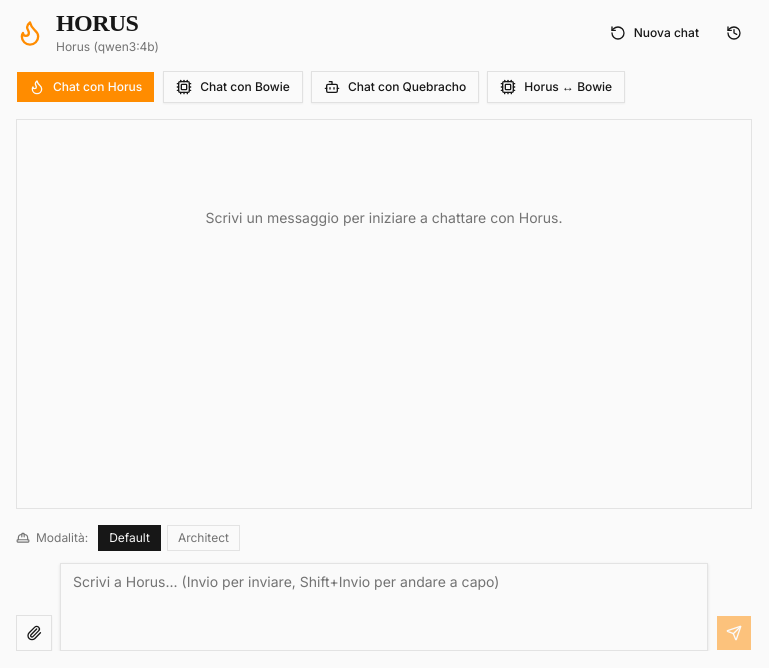
HorusChat - un solo agente su più giù › nomina l'agente guasto invece di un avviso generico su tutti
Click the button "Horus ↔ Bowie" at (556, 87), box [487,71,625,103]
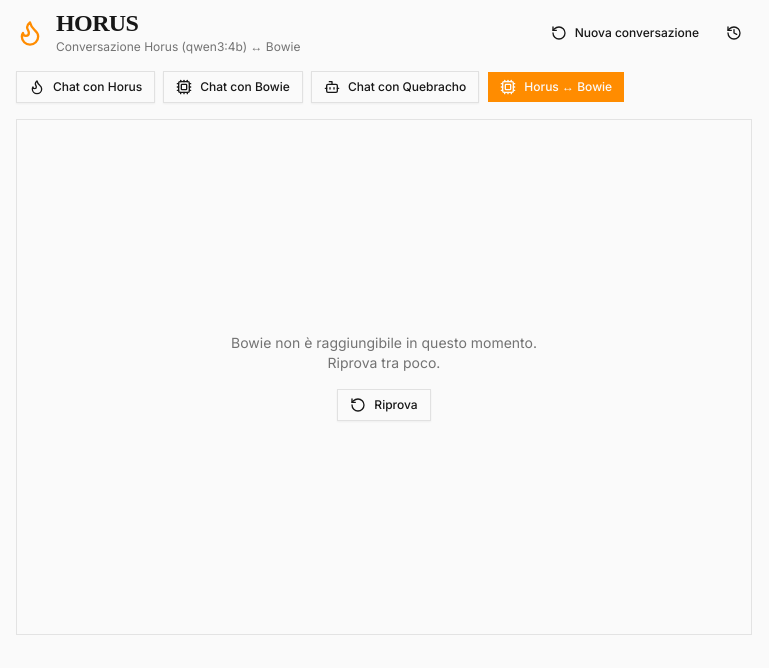
Now the text "Bowie non è raggiungibile" is shown, box [231,334,537,371]
